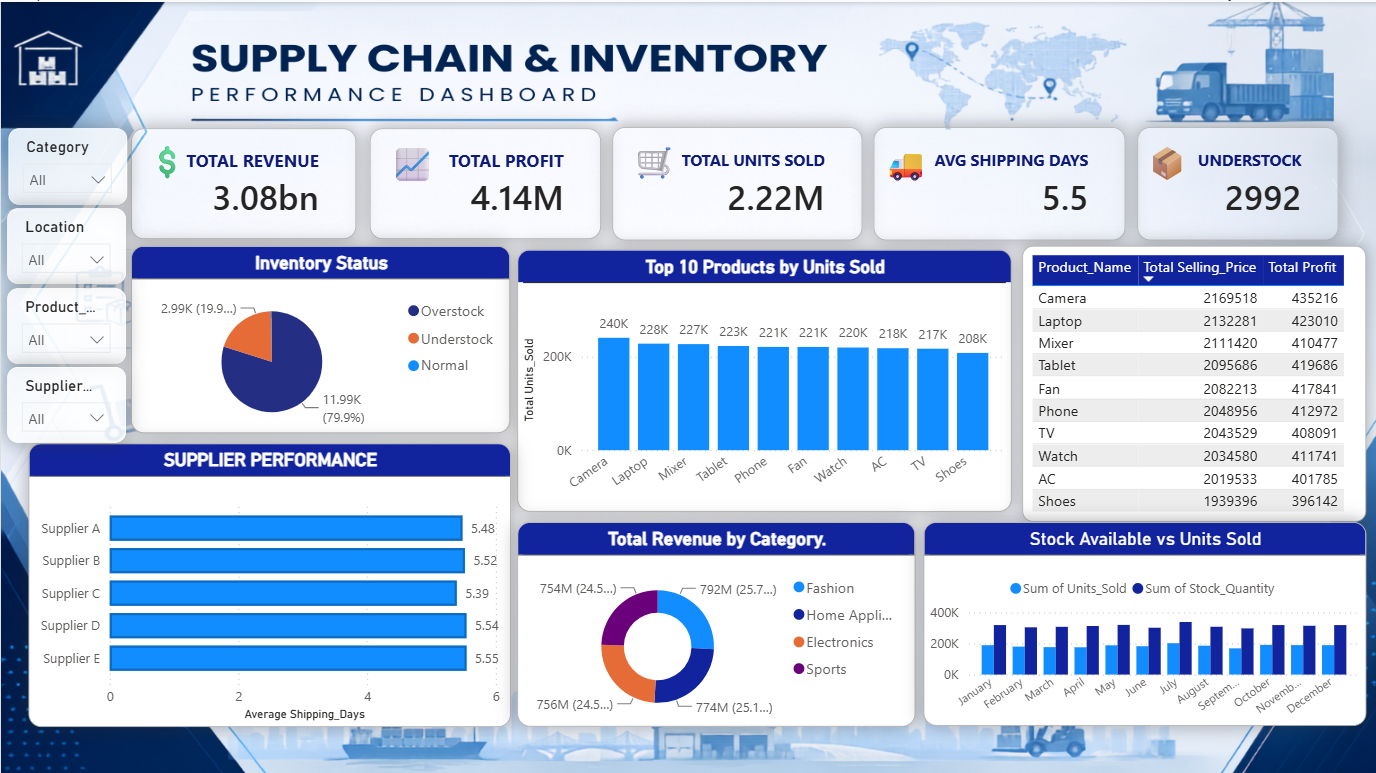

The page's visual inventory and layout, read from the dashboard file:
{"tool":"powerbi","page":{"name":"Supply chain Dashboard ","canvas":[1280,720],"ordinal":0},"visuals":[{"type":"cardVisual","fields":{"Data":["Sum(supply_chain_inventory_dataset_.Revenue)"]},"box":[120.9,117.4,209.3,103.5],"z":0},{"type":"cardVisual","fields":{"Data":["Sum(supply_chain_inventory_dataset_.Profit)"]},"box":[343,117.4,215.1,103.5],"z":1000},{"type":"image","title":"💲","box":[133.7,126.7,57.1,41.4],"z":2000},{"type":"image","title":"📈","box":[361.6,129.1,44.3,41.4],"z":3000},{"type":"cardVisual","fields":{"Data":["Sum(supply_chain_inventory_dataset_.Units_Sold)"]},"box":[568.6,115.7,232.9,105.7],"z":4000},{"type":"image","title":"🛒","box":[585.7,127.1,71.4,45.7],"z":5000},{"type":"cardVisual","fields":{"Data":["Avg(supply_chain_inventory_dataset_.Shipping_Time_Days)"]},"box":[811.4,115.7,234.3,105.7],"z":6000},{"type":"image","title":"🚚","box":[821.4,128.6,55.7,47.1],"z":7000},{"type":"cardVisual","fields":{"Data":["supply_chain_inventory_dataset_.Understock Products"]},"box":[1057,116.3,187.2,105.8],"z":8000},{"type":"image","title":"📦","box":[1064,127.9,48.6,44.3],"z":9000},{"type":"pieChart","title":"Inventory Status","fields":{"Category":["supply_chain_inventory_dataset_.Inventory_Status"],"Y":["CountNonNull(supply_chain_inventory_dataset_.Product_ID)"]},"box":[121.4,227.1,352.9,174.3],"z":10000},{"type":"columnChart","title":"Top 10 Products by Units Sold","fields":{"Category":["supply_chain_inventory_dataset_.Product_Name"],"Y":["Sum(supply_chain_inventory_dataset_.Units_Sold)"]},"box":[480,230,460,244.3],"z":11000},{"type":"clusteredBarChart","title":"SUPPLIER PERFORMANCE ","fields":{"Category":["supply_chain_inventory_dataset_.Supplier_Name"],"Y":["Avg(supply_chain_inventory_dataset_.Shipping_Time_Days)"]},"box":[25.6,410.5,448.8,264],"z":12000},{"type":"donutChart","title":"Total Revenue by Category.","fields":{"Category":["supply_chain_inventory_dataset_.Category"],"Y":["Sum(supply_chain_inventory_dataset_.Revenue)"]},"box":[480,484.3,370,190],"z":13000},{"type":"tableEx","fields":{"Values":["supply_chain_inventory_dataset_.Product_Name","Sum(supply_chain_inventory_dataset_.Selling_Price)","Sum(supply_chain_inventory_dataset_.Profit)"]},"box":[950,227.1,320,257.1],"z":14000},{"type":"slicer","fields":{"Values":["supply_chain_inventory_dataset_.Category"]},"box":[7,117.4,110,70.9],"z":15000},{"type":"slicer","fields":{"Values":["supply_chain_inventory_dataset_.Warehouse_Location"]},"box":[6,192,110,70],"z":16000},{"type":"slicer","fields":{"Values":["supply_chain_inventory_dataset_.Product_Name"]},"box":[6,266,110,70],"z":17000},{"type":"slicer","fields":{"Values":["supply_chain_inventory_dataset_.Supplier_Name"]},"box":[6,340,110,70],"z":18000},{"type":"lineClusteredColumnComboChart","title":"Stock Available vs Units Sold","fields":{"Category":["supply_chain_inventory_dataset_.Delivery_Date.Variation.Date Hierarchy.Month"],"Y":["Sum(supply_chain_inventory_dataset_.Units_Sold)","Sum(supply_chain_inventory_dataset_.Stock_Quantity)"]},"box":[858.1,483.7,411.6,189.5],"z":19000}]}

Visuals, with their boxes in screenshot pixels (x1, y1, x2, y2), scaled from the page's 1280x720 canvas onto the 1376x773 screenshot:
cardVisual - Sum(supply_chain_inventory_dataset_.Revenue): box=[130, 126, 355, 237]
cardVisual - Sum(supply_chain_inventory_dataset_.Profit): box=[369, 126, 600, 237]
"💲" image: box=[144, 136, 205, 180]
"📈" image: box=[389, 139, 436, 183]
cardVisual - Sum(supply_chain_inventory_dataset_.Units_Sold): box=[611, 124, 862, 238]
"🛒" image: box=[630, 136, 706, 186]
cardVisual - Avg(supply_chain_inventory_dataset_.Shipping_Time_Days): box=[872, 124, 1124, 238]
"🚚" image: box=[883, 138, 943, 189]
cardVisual - supply_chain_inventory_dataset_.Understock Products: box=[1136, 125, 1338, 238]
"📦" image: box=[1144, 137, 1196, 185]
"Inventory Status" pieChart: box=[131, 244, 510, 431]
"Top 10 Products by Units Sold" columnChart: box=[516, 247, 1010, 509]
"SUPPLIER PERFORMANCE " clusteredBarChart: box=[28, 441, 510, 724]
"Total Revenue by Category." donutChart: box=[516, 520, 914, 724]
tableEx - supply_chain_inventory_dataset_.Product_Name x Sum(supply_chain_inventory_dataset_.Selling_Price): box=[1021, 244, 1365, 520]
slicer - supply_chain_inventory_dataset_.Category: box=[8, 126, 126, 202]
slicer - supply_chain_inventory_dataset_.Warehouse_Location: box=[6, 206, 125, 281]
slicer - supply_chain_inventory_dataset_.Product_Name: box=[6, 286, 125, 361]
slicer - supply_chain_inventory_dataset_.Supplier_Name: box=[6, 365, 125, 440]
"Stock Available vs Units Sold" lineClusteredColumnComboChart: box=[922, 519, 1365, 723]
